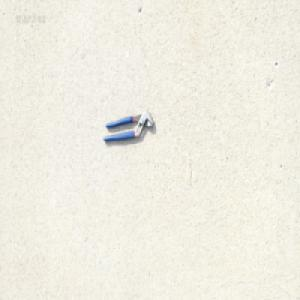Pliers: (102, 109, 155, 143)
